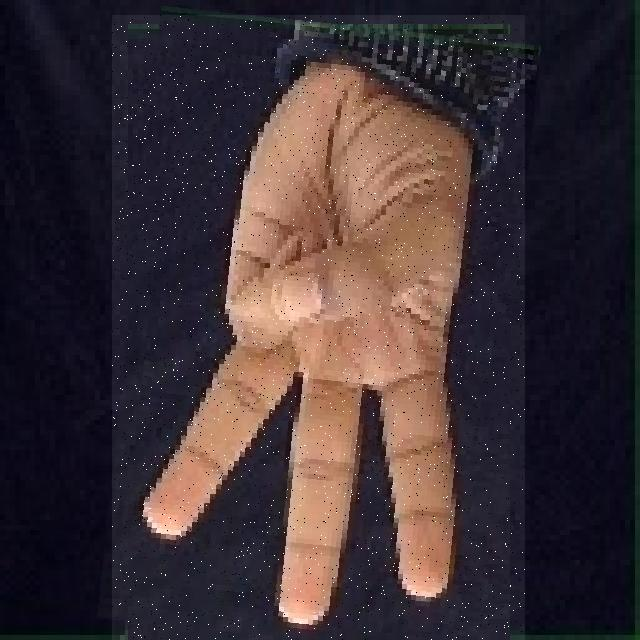Please: (112, 15, 525, 640)
